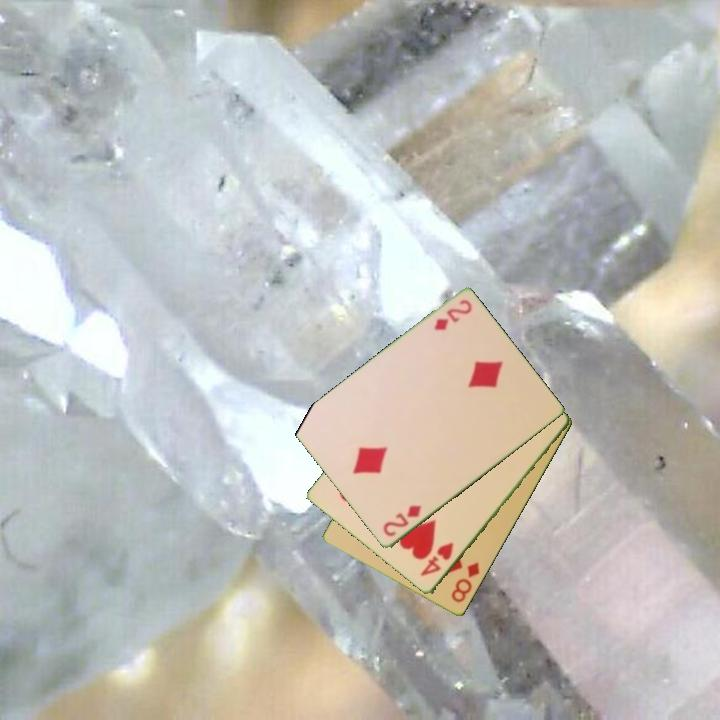2d: (379, 502, 424, 540), (430, 296, 475, 334)
4h: (417, 539, 457, 580)
8d: (448, 559, 483, 606)
